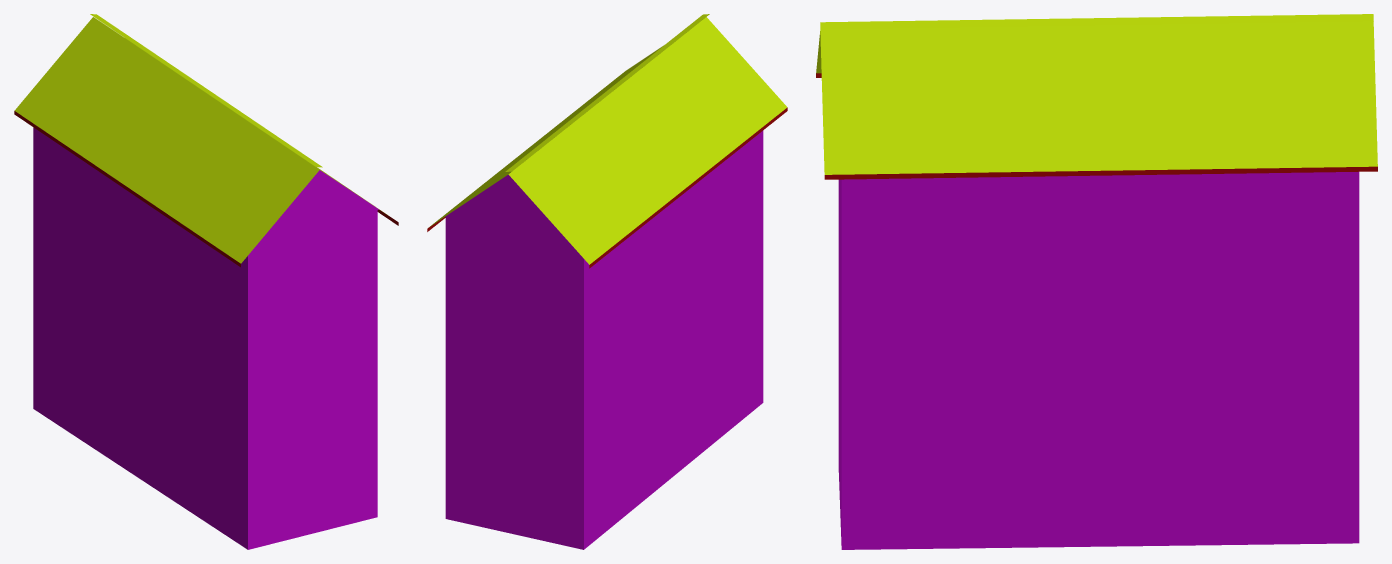
Rendered from svc_24.glb.
The picture shows the model from 3 angles, left to right: view 1: azimuth 30°, elevation 25°; view 2: azimuth 150°, elevation 25°; view 3: azimuth 270°, elevation 25°; orthographic projection. The views are drawn at different scales.
Parts seen in each view (by area): view 1: svc_24; view 2: svc_24; view 3: svc_24.
Part boxes in pixels (box(x1,y1,x2,y2)): svc_24: box(14, 14, 398, 549); svc_24: box(427, 14, 787, 549); svc_24: box(816, 14, 1377, 549).
Size of the model in its own units: 5.84 by 11.98 by 12.61.
